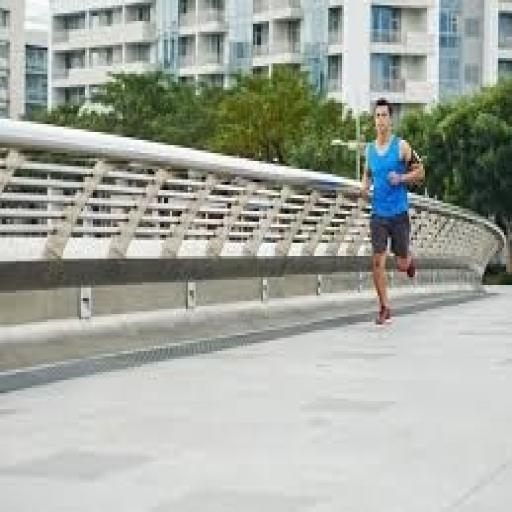running: (356, 95, 429, 330)
